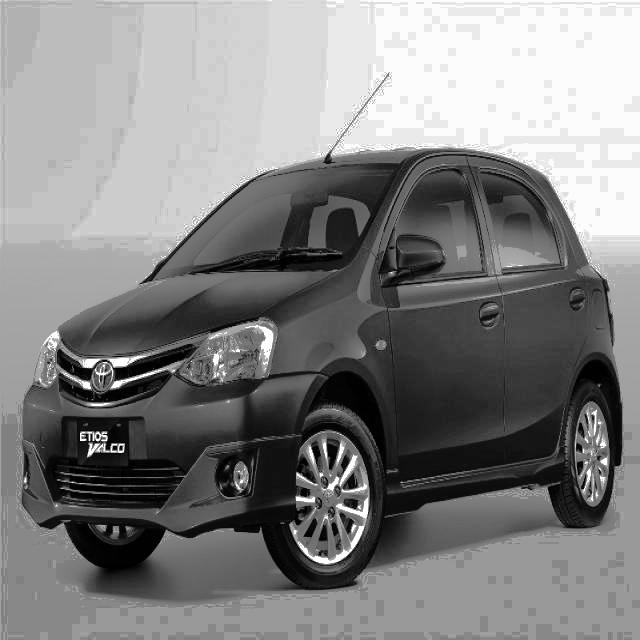Car: (19, 109, 635, 638)
